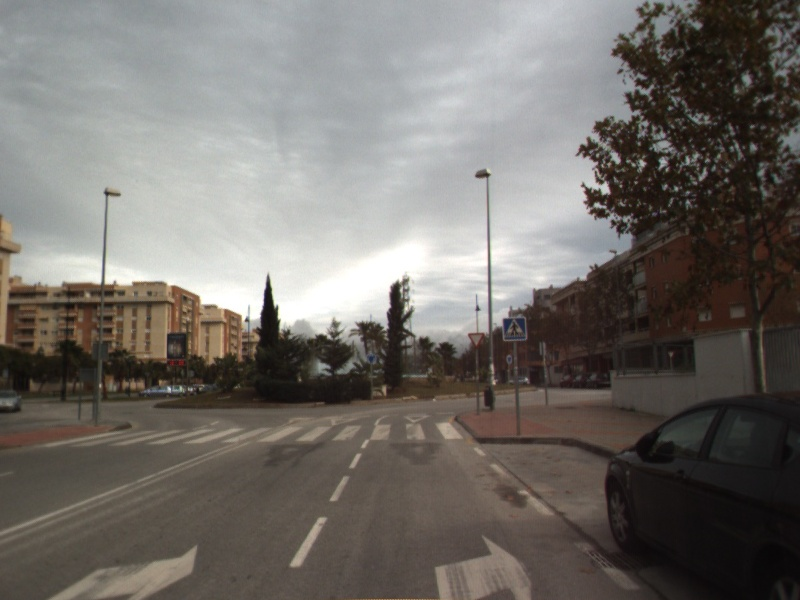RIGHT: (42, 539, 202, 600), (430, 530, 534, 600)
